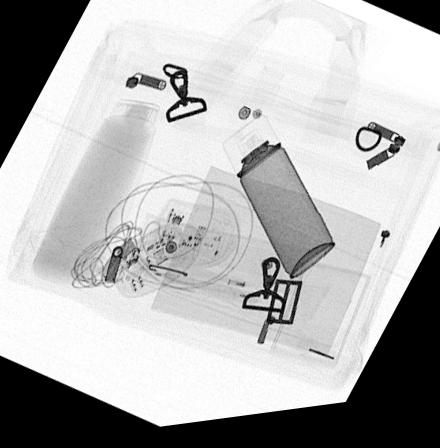Sprayer: (220, 119, 336, 287)
